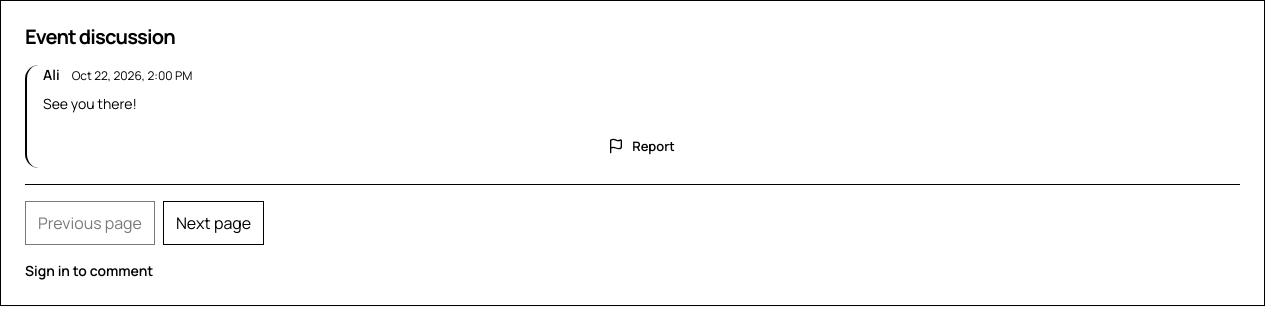
it: EventDiscussion › shows public comments, a removed comment placeholder, and paginated replies
Check: the text "See you there!" is shown, box 43,94 -> 137,113
Click the button "Next page" at [214, 223], box 163,201 -> 264,245
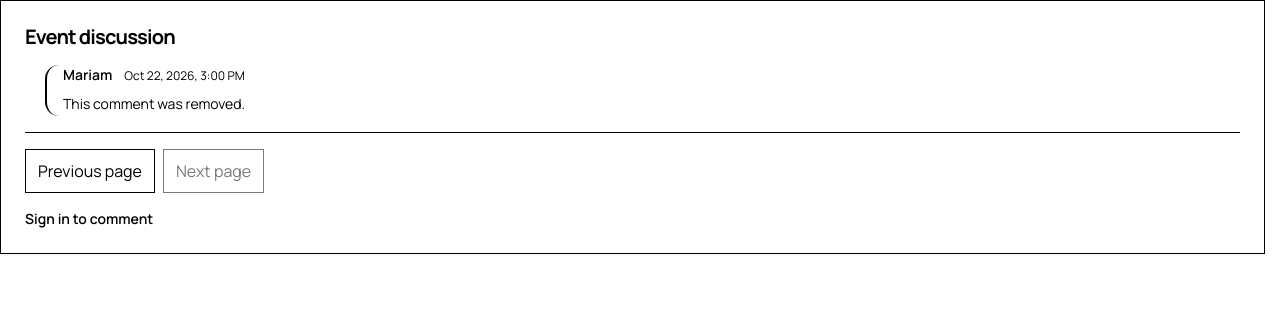
Check: the text "This comment was removed." is shown, box 63,94 -> 245,113
